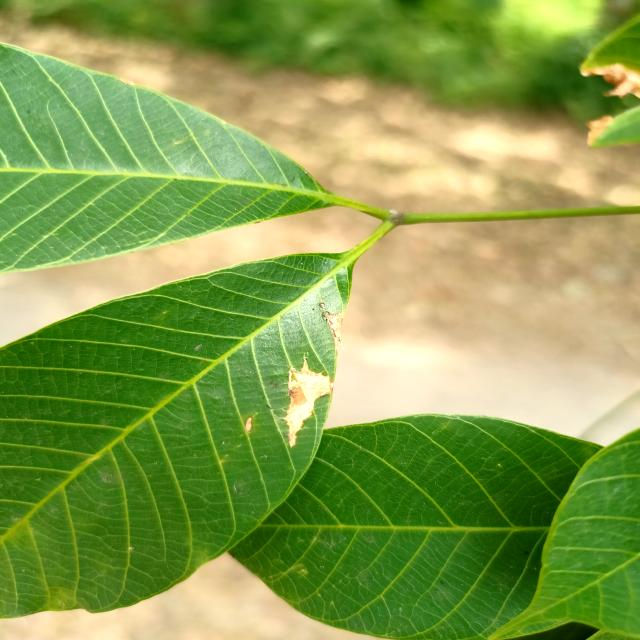Leaf-Blight: (282, 369, 334, 447)
